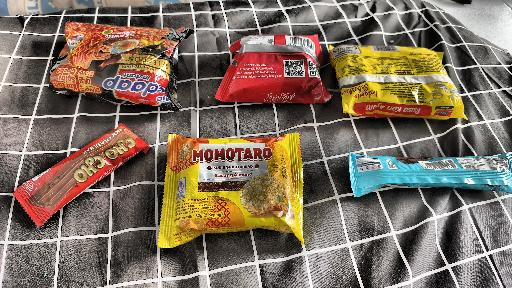chocho: (11, 132, 139, 199)
dilan: (334, 139, 509, 225)
indomie: (318, 30, 493, 131)
mie sedap: (12, 10, 193, 103)
momotaro: (147, 124, 319, 265), (217, 17, 343, 118)
